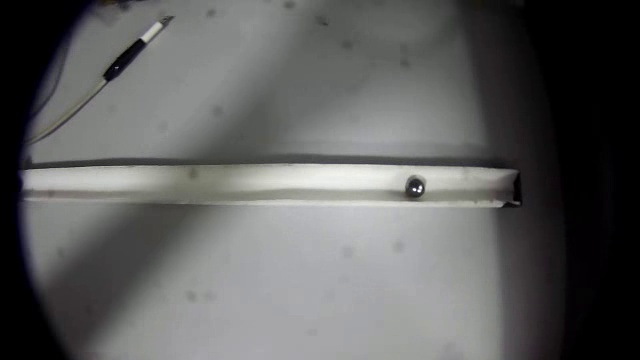gangzhu: (403, 175, 427, 200)
